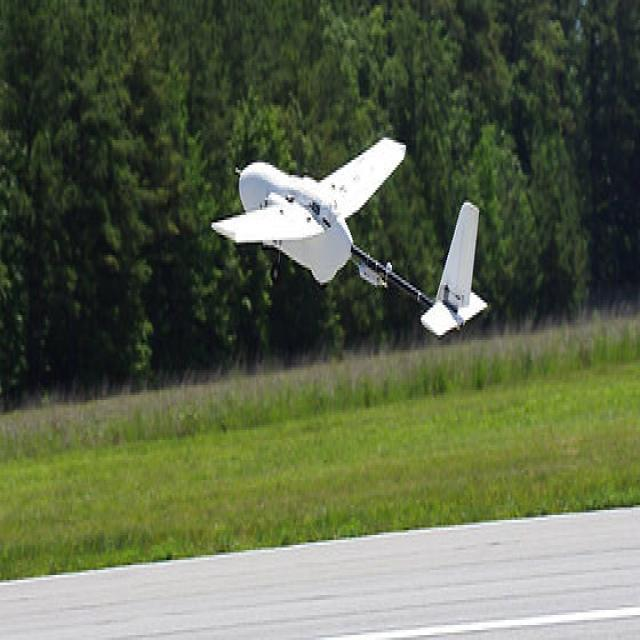iha: (213, 134, 497, 352)
